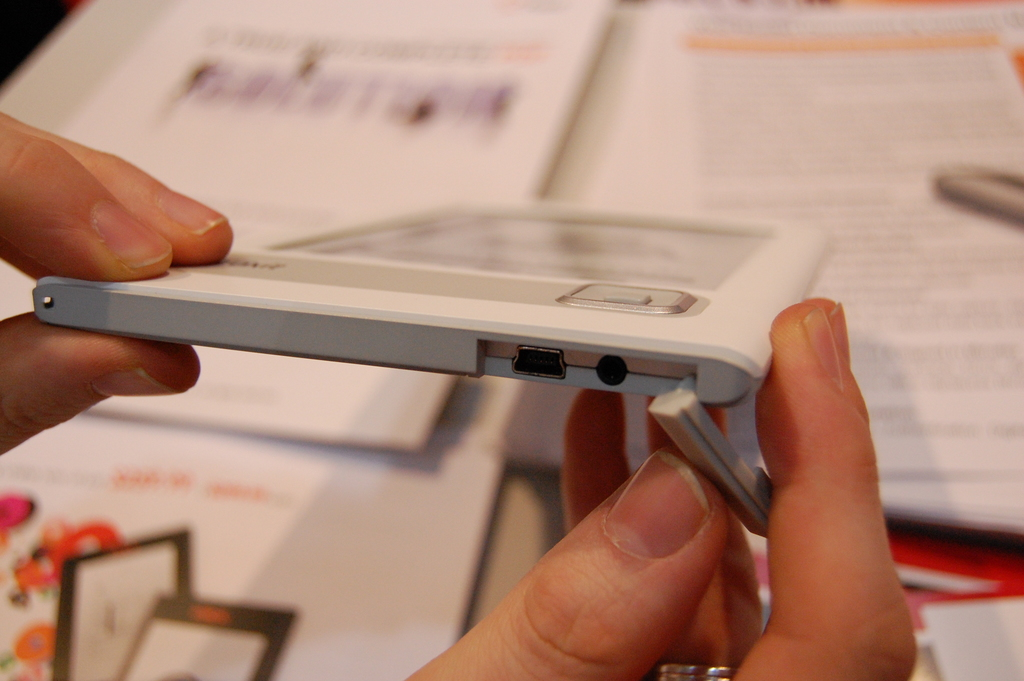Mobile-phone: (31, 199, 831, 391)
